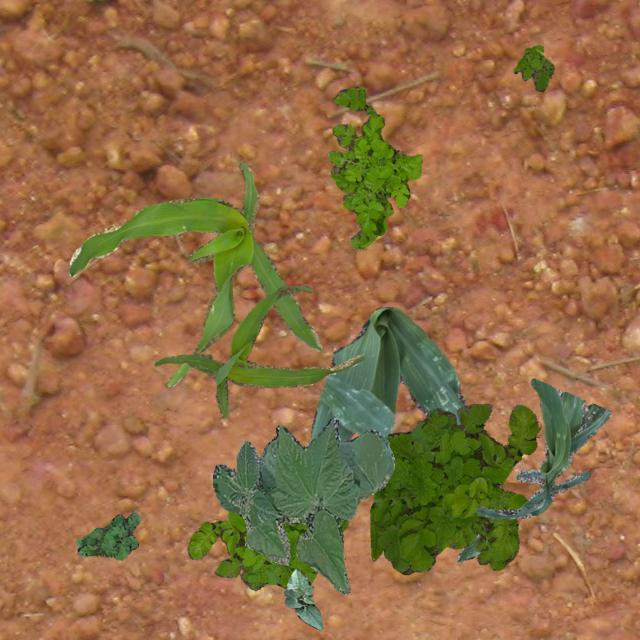crop: (67, 160, 321, 386), (212, 416, 394, 594), (154, 286, 364, 416), (310, 306, 466, 444), (474, 378, 610, 518), (282, 568, 322, 630), (456, 532, 479, 560)
weed: (370, 402, 540, 574), (326, 85, 422, 248), (187, 510, 347, 590), (74, 508, 140, 558), (512, 44, 552, 90)
